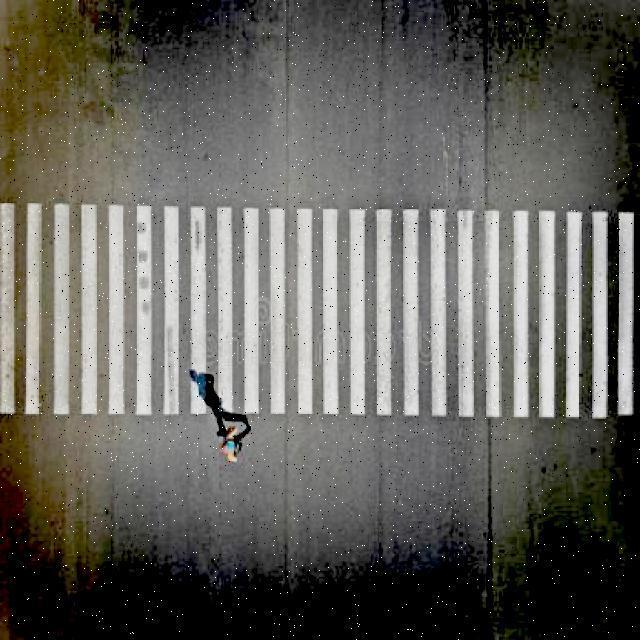Pedestrian crosswalk: (2, 175, 640, 453)
